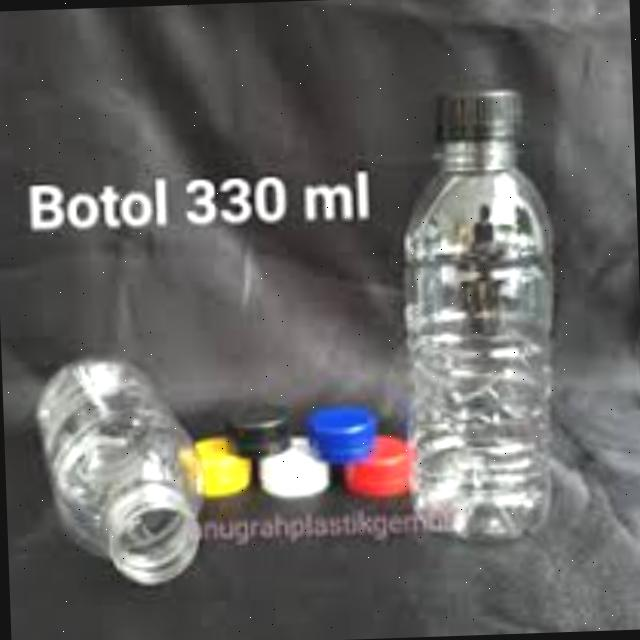trash: (380, 79, 568, 556), (23, 350, 216, 594)
